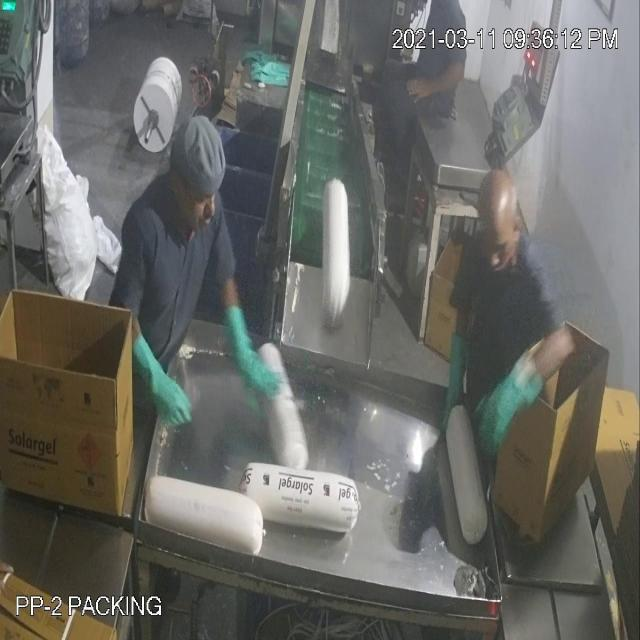Gloves: (36, 68, 514, 406)
